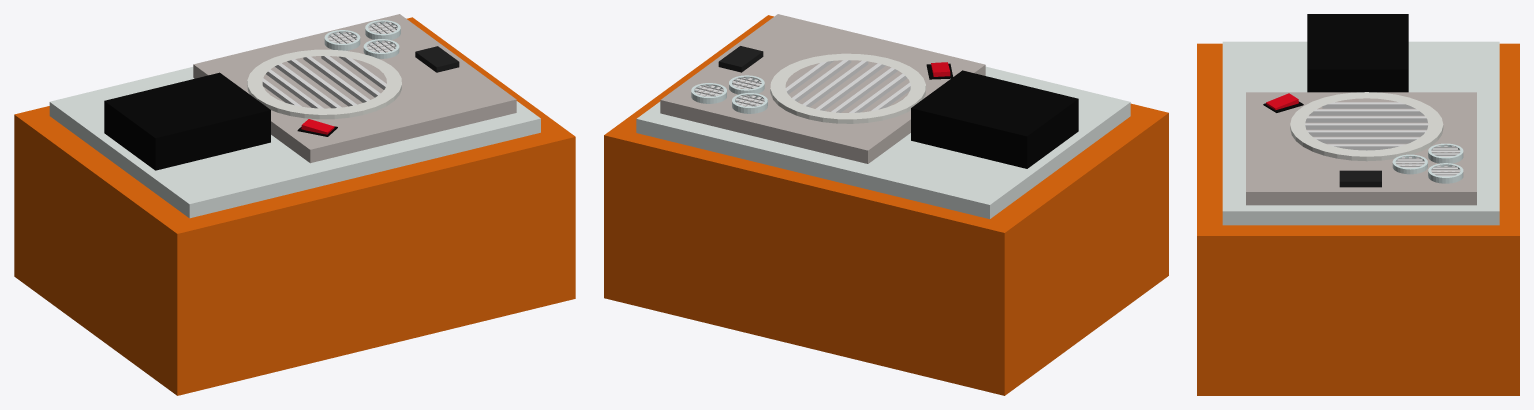
Rendered from HIELERA FINAL.glb.
3 views of the same model, side by side, from view 1: azimuth 30°, elevation 25°; view 2: azimuth 150°, elevation 25°; view 3: azimuth 270°, elevation 25° (orthographic).
Visible parts, largest first — view 1: Cube.001, Cube.002, Cubo, Cubo.001, Cilindro, Cube.003, Cilindro.005, Cilindro.002, Cilindro.003, Cube, Cube.006, Cube.009 (+1 smaller); view 2: Cube.001, Cube.002, Cubo, Cubo.001, Cilindro, Cube.003, Cilindro.002, Cilindro.005, Cilindro.003, Cube, Cube.006, Cube.009 (+1 smaller); view 3: Cube.001, Cube.002, Cubo, Cubo.001, Cilindro, Cube, Cube.009, Cube.006, Cube.003, Cube.010, Cube.007, Cilindro.002 (+5 smaller).
Boxes of the visible parts, left/top/right/bottom form: Cube.001: left=14, top=17, right=575, bottom=395; Cube.002: left=49, top=67, right=540, bottom=218; Cubo: left=193, top=14, right=516, bottom=163; Cubo.001: left=104, top=72, right=270, bottom=170; Cilindro: left=247, top=49, right=401, bottom=119; Cube.003: left=415, top=46, right=459, bottom=72; Cilindro.005: left=324, top=30, right=360, bottom=50; Cilindro.002: left=365, top=20, right=400, bottom=39; Cilindro.003: left=363, top=39, right=399, bottom=58; Cube: left=287, top=59, right=356, bottom=106; Cube.006: left=303, top=56, right=369, bottom=102; Cube.009: left=275, top=63, right=341, bottom=108; Cube.001: left=604, top=15, right=1168, bottom=395; Cube.002: left=636, top=66, right=1130, bottom=219; Cubo: left=660, top=14, right=985, bottom=163; Cubo.001: left=911, top=70, right=1078, bottom=168; Cilindro: left=770, top=53, right=925, bottom=123; Cube.003: left=718, top=46, right=763, bottom=72; Cilindro.002: left=691, top=83, right=726, bottom=103; Cilindro.005: left=732, top=93, right=767, bottom=113; Cilindro.003: left=729, top=75, right=764, bottom=94; Cube: left=815, top=63, right=885, bottom=110; Cube.006: left=802, top=61, right=868, bottom=107; Cube.009: left=831, top=67, right=897, bottom=112; Cube.001: left=1197, top=43, right=1519, bottom=395; Cube.002: left=1222, top=41, right=1499, bottom=225; Cubo: left=1246, top=92, right=1476, bottom=205; Cubo.001: left=1307, top=14, right=1408, bottom=92; Cilindro: left=1290, top=92, right=1443, bottom=161; Cube: left=1305, top=123, right=1428, bottom=129; Cube.009: left=1305, top=116, right=1427, bottom=122; Cube.006: left=1307, top=130, right=1426, bottom=136; Cube.003: left=1339, top=170, right=1381, bottom=187; Cube.010: left=1309, top=109, right=1424, bottom=115; Cube.007: left=1314, top=137, right=1419, bottom=143; Cilindro.002: left=1428, top=163, right=1463, bottom=183.
Size of the model in its own units: 3.86 by 1.93 by 2.74.
